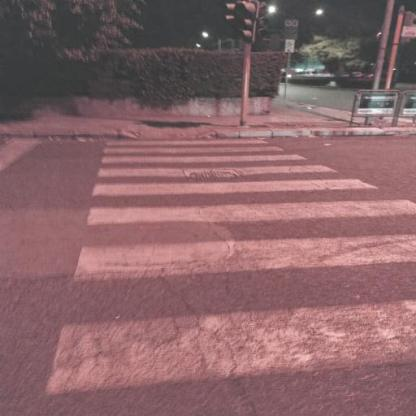crosswalk: (40, 228, 415, 406), (83, 163, 382, 199)
